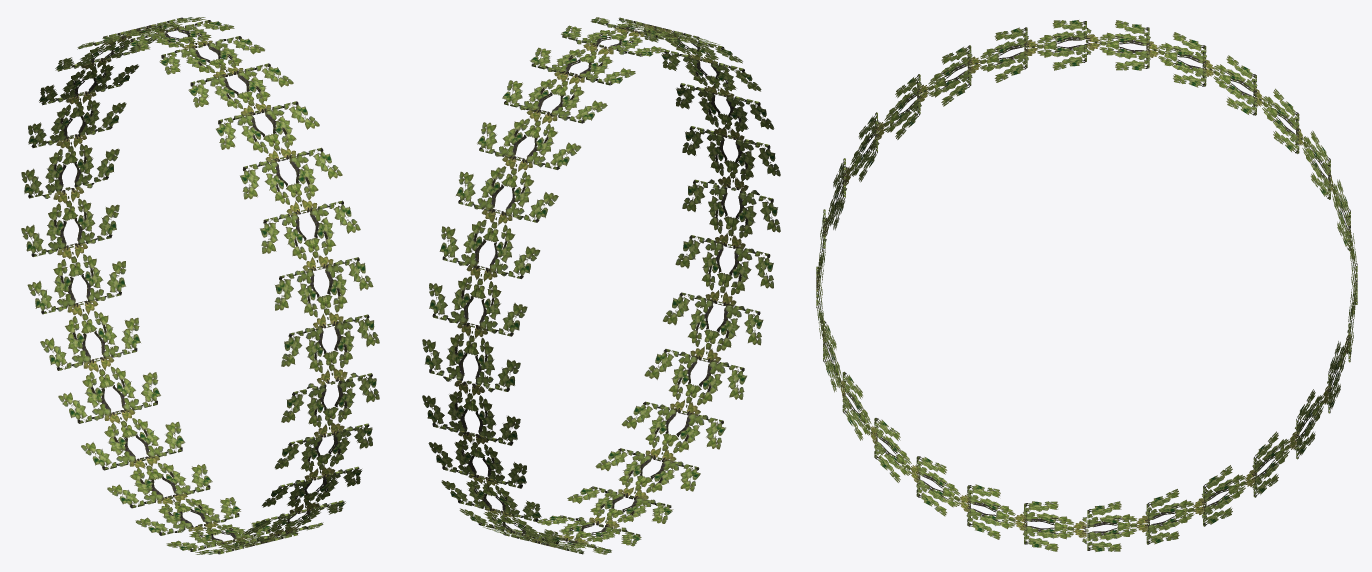
Rendered from tube_big_b.FBX.
3 views of the same model, side by side, from view 1: azimuth 30°, elevation 25°; view 2: azimuth 150°, elevation 25°; view 3: azimuth 270°, elevation 25° (orthographic). The views are drawn at different scales.
Visible parts, largest first — view 1: tube_big_b; view 2: tube_big_b; view 3: tube_big_b.
Part boxes in pixels (box(x1,y1,x2,y2)): tube_big_b: box(21, 17, 379, 554); tube_big_b: box(422, 17, 780, 554); tube_big_b: box(816, 20, 1357, 551).
Size of the model in its own units: 4 by 17.19 by 17.19.
